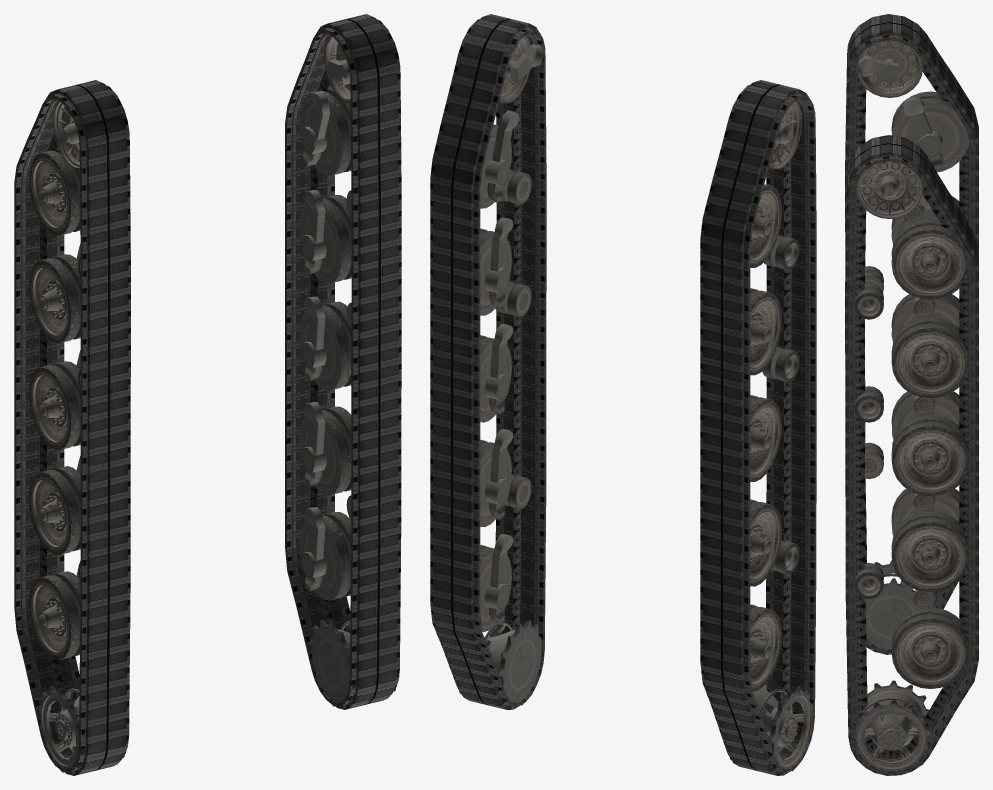
The model's file is Chassis.glb.
3 views of the same model, side by side, from view 1: azimuth 30°, elevation 25°; view 2: azimuth 150°, elevation 25°; view 3: azimuth 270°, elevation 25° (orthographic). The views are drawn at different scales.
Visible parts, largest first — view 1: set_1_group_0, set_0_group_0, set_3_group_0, set_2_group_0; view 2: set_1_group_0, set_0_group_0, set_3_group_0, set_2_group_0; view 3: set_3_group_0, set_0_group_0, set_2_group_0, set_1_group_0.
Part boxes in pixels (x1=…): set_1_group_0: x1=14, y1=80, x2=130, y2=775; set_0_group_0: x1=285, y1=14, x2=401, y2=709; set_3_group_0: x1=299, y1=35, x2=399, y2=708; set_2_group_0: x1=28, y1=101, x2=128, y2=774; set_1_group_0: x1=700, y1=80, x2=816, y2=775; set_0_group_0: x1=430, y1=14, x2=546, y2=709; set_3_group_0: x1=455, y1=35, x2=543, y2=708; set_2_group_0: x1=725, y1=101, x2=812, y2=774; set_3_group_0: x1=850, y1=161, x2=969, y2=775; set_0_group_0: x1=845, y1=135, x2=978, y2=775; set_2_group_0: x1=856, y1=40, x2=968, y2=654; set_1_group_0: x1=845, y1=14, x2=978, y2=654.
Size of the model in its own units: 2.99 by 6.09 by 1.19.
4 materials, 4 textured.
